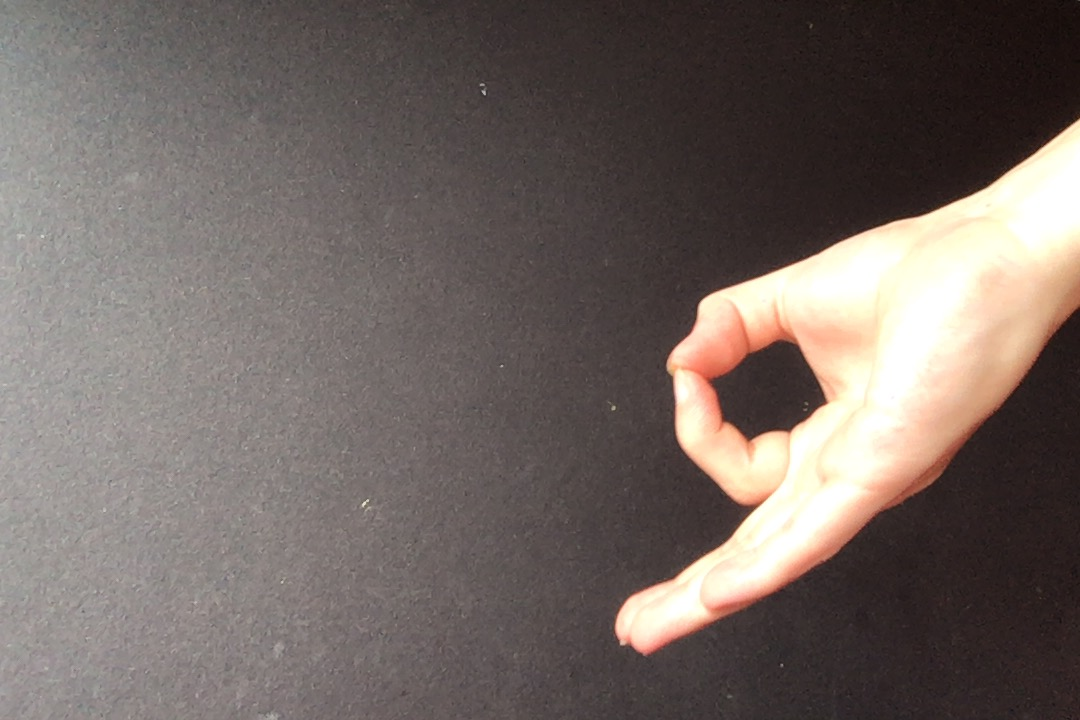oksign: (605, 218, 1038, 662)
